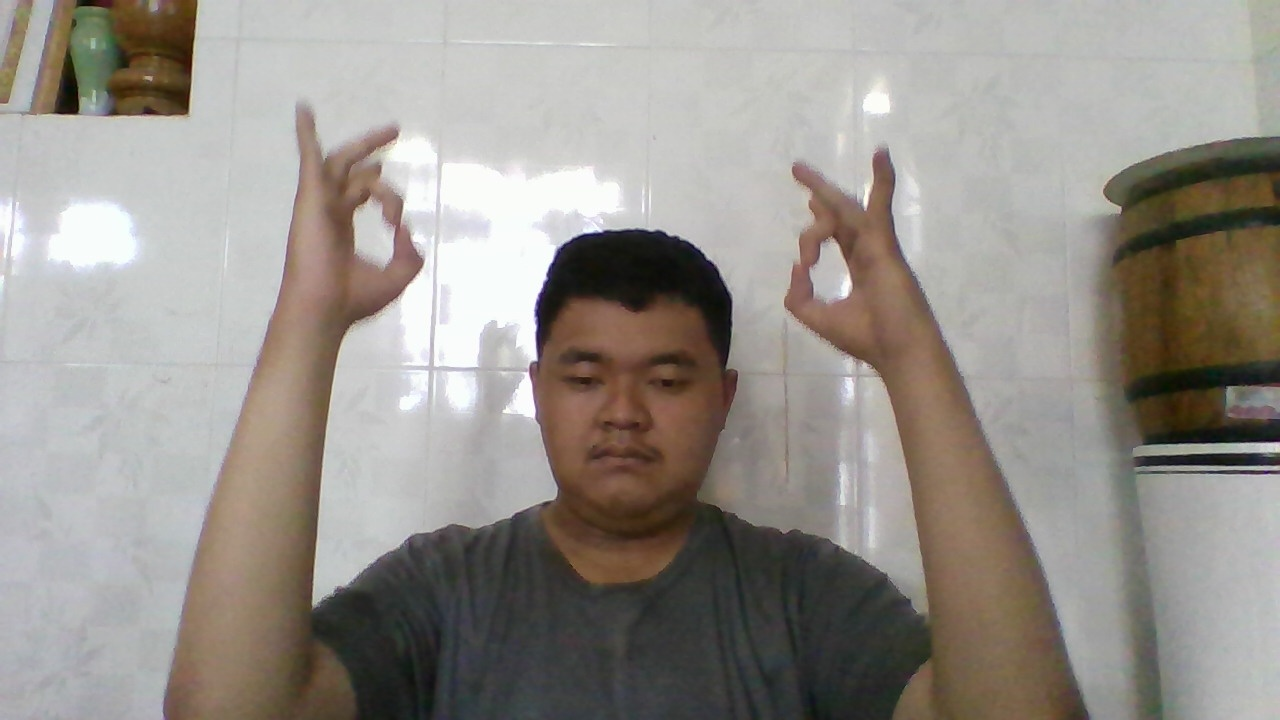H: (287, 96, 430, 328), (776, 138, 914, 369)
